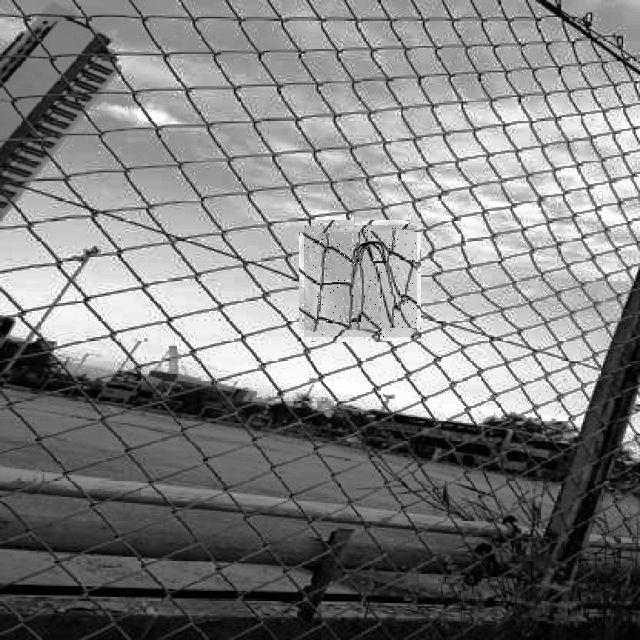anomaly-fence: (304, 225, 417, 337)
